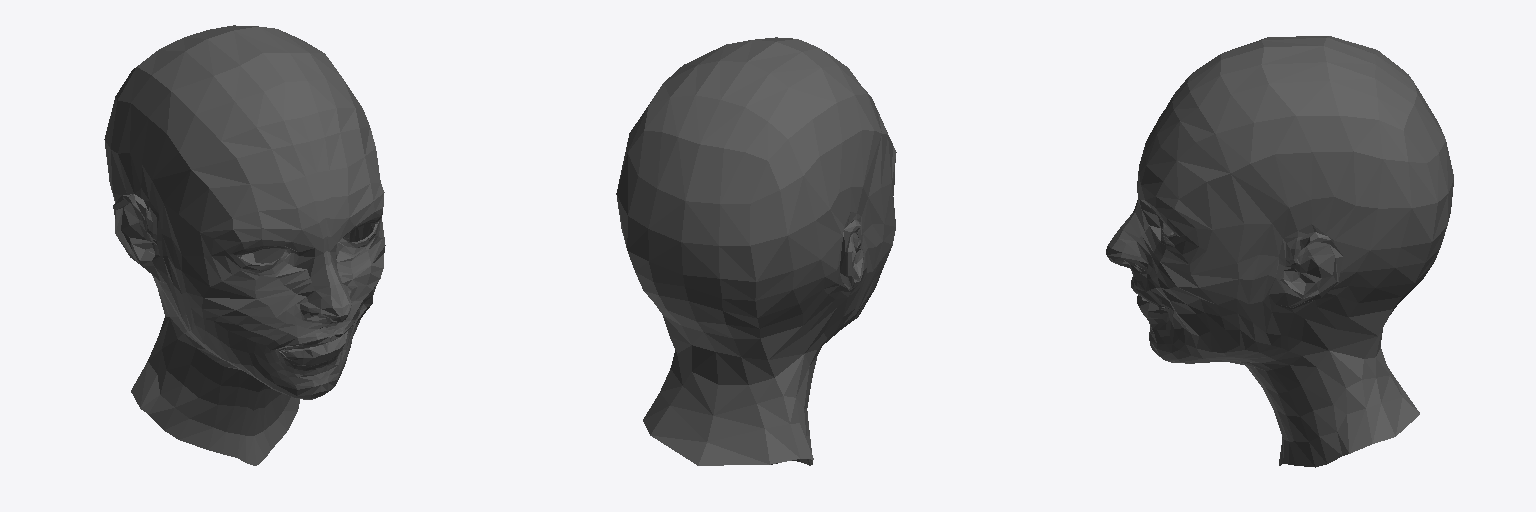
File: SmileLeft.obj
The picture shows the model from 3 angles: view 1: azimuth 30°, elevation 25°; view 2: azimuth 150°, elevation 25°; view 3: azimuth 270°, elevation 25°; orthographic projection.
Parts seen in each view (by area): view 1: default; view 2: default; view 3: default.
Boxes of the visible parts, x1,y1,x2,y2 form: default: [104, 25, 385, 465]; default: [616, 37, 896, 465]; default: [1106, 36, 1453, 467].
Bounding box in the file's own units: 6.99 × 12.46 × 9.39.